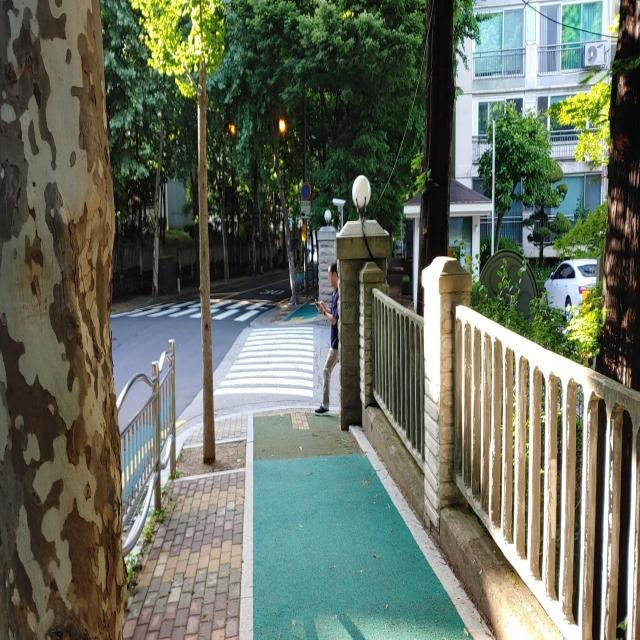횡단보도: (212, 326, 315, 399), (108, 298, 290, 318)
